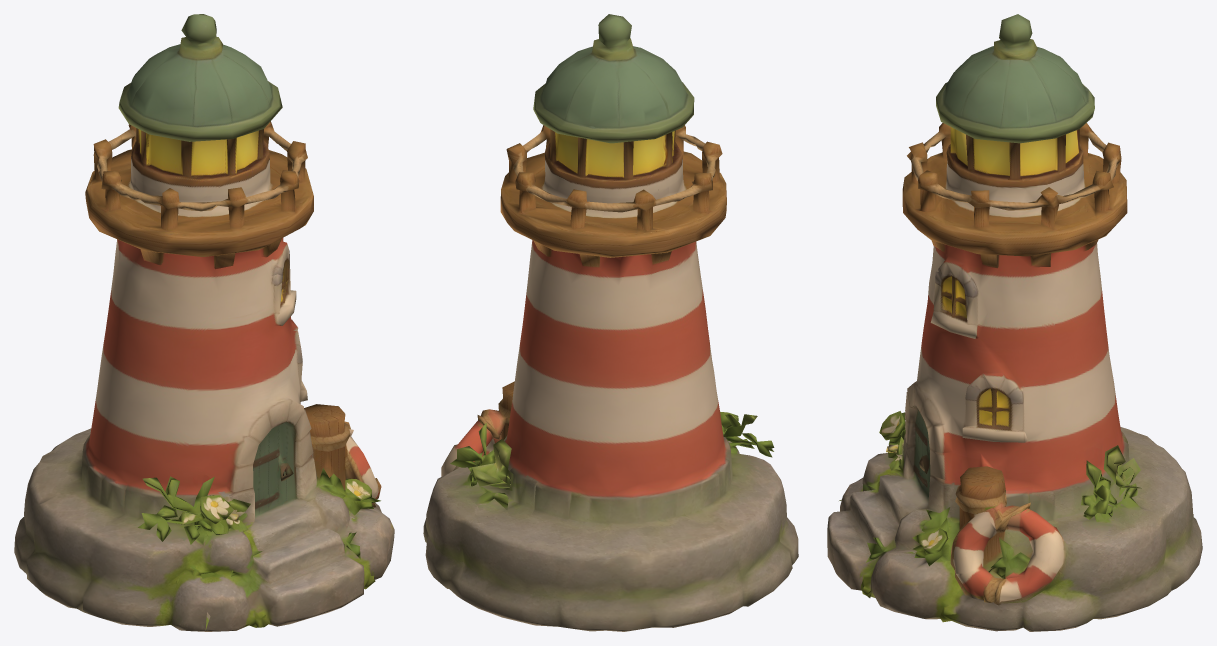
File: decor-lighthouse.glb
3 renders of one model, left to right at view 1: azimuth 30°, elevation 25°; view 2: azimuth 150°, elevation 25°; view 3: azimuth 270°, elevation 25°, orthographic.
Visible parts, largest first — view 1: tripo_node_fe6b4d20-b8dc-45b4-a494-9cc14800fd10; view 2: tripo_node_fe6b4d20-b8dc-45b4-a494-9cc14800fd10; view 3: tripo_node_fe6b4d20-b8dc-45b4-a494-9cc14800fd10.
Boxes of the visible parts, box(x1,y1,x2,y2) form: tripo_node_fe6b4d20-b8dc-45b4-a494-9cc14800fd10: box(14, 14, 394, 631); tripo_node_fe6b4d20-b8dc-45b4-a494-9cc14800fd10: box(423, 14, 798, 631); tripo_node_fe6b4d20-b8dc-45b4-a494-9cc14800fd10: box(827, 14, 1202, 631).
Size of the model in its own units: 0.6354 by 0.9956 by 0.6327.
Materials: 1 (1 with a texture image).
